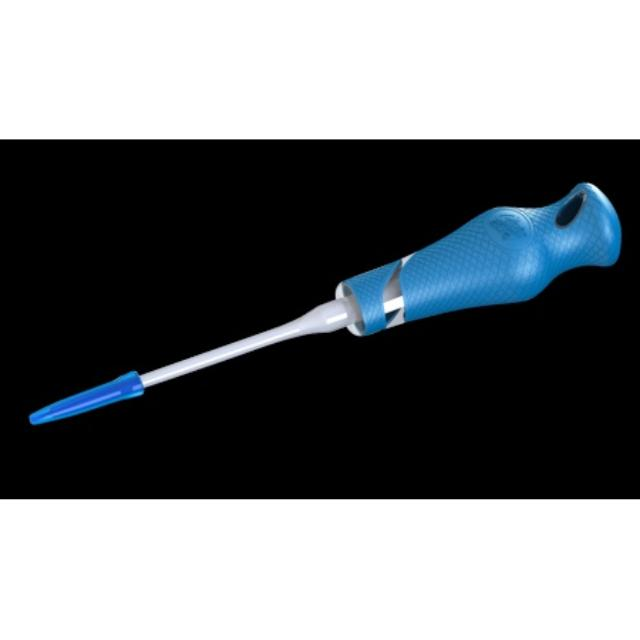ice pick: (32, 182, 620, 424)
